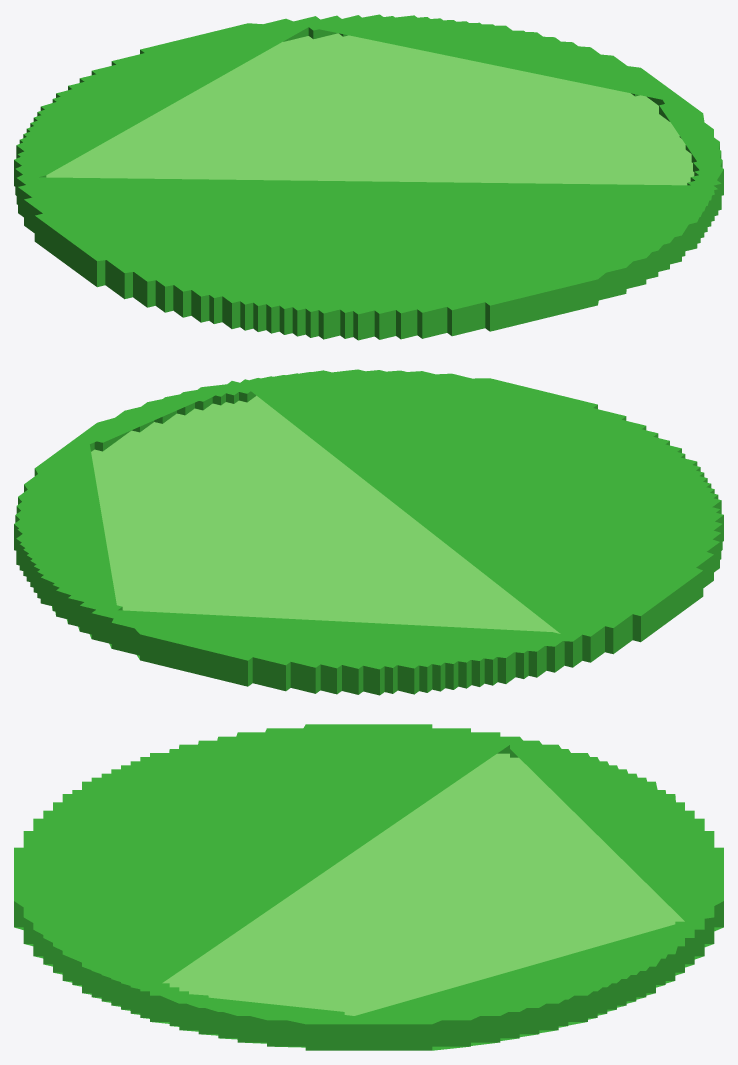
Rendered from AlraUlt.fbx.
3 views of the same model, one above another, from view 1: azimuth 30°, elevation 25°; view 2: azimuth 150°, elevation 25°; view 3: azimuth 270°, elevation 25° (orthographic).
Visible parts, largest first — view 1: Cylinder; view 2: Cylinder; view 3: Cylinder.
Boxes of the visible parts, bbox=[...] form: Cylinder: bbox=[14, 14, 723, 340]; Cylinder: bbox=[14, 369, 723, 695]; Cylinder: bbox=[14, 724, 723, 1050].
Size of the model in its own units: 797 by 797 by 32.76.
